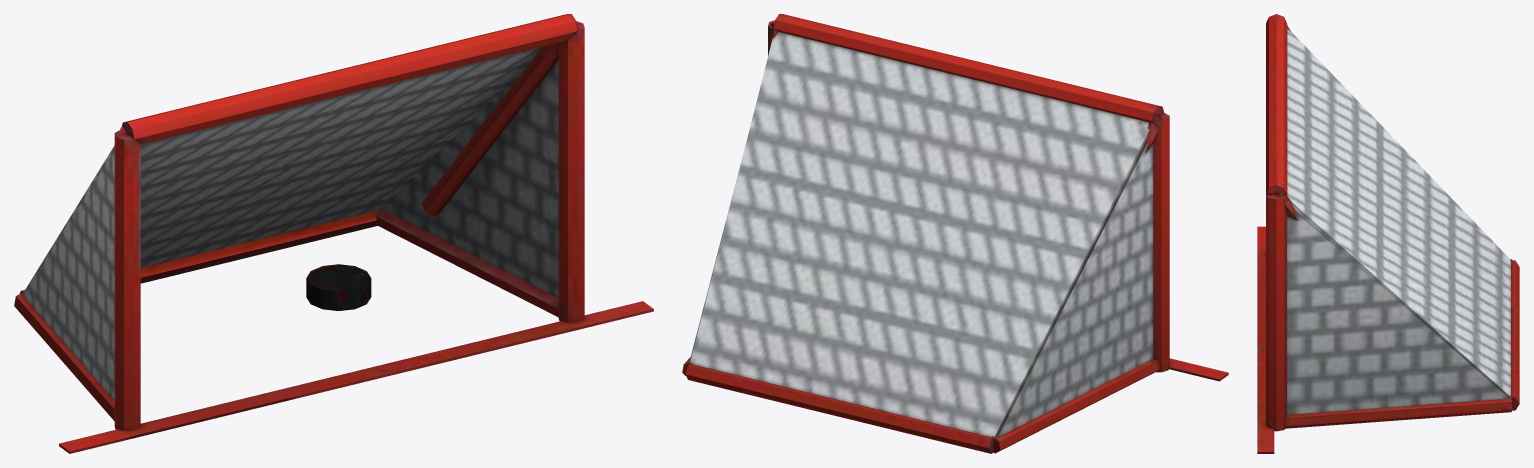
The model's file is porteria_hockey.glb.
3 views of the same model, side by side, from view 1: azimuth 30°, elevation 25°; view 2: azimuth 150°, elevation 25°; view 3: azimuth 270°, elevation 25° (orthographic). The views are drawn at different scales.
Visible parts, largest first — view 1: porteria_hockey; view 2: porteria_hockey; view 3: porteria_hockey.
Part boxes in pixels (bbox=[...]): porteria_hockey: bbox=[14, 14, 653, 453]; porteria_hockey: bbox=[682, 14, 1228, 453]; porteria_hockey: bbox=[1257, 14, 1519, 453].
Bounding box in the file's own units: 2.5 × 1.26 × 1.23.
Materials: 1 (1 with a texture image).
